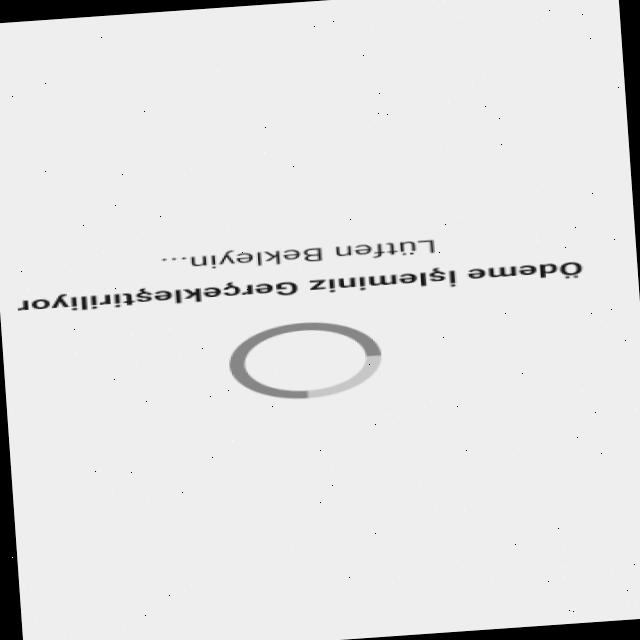QLabel: (12, 254, 586, 319), (158, 234, 441, 274)
VImg: (216, 312, 400, 406)
